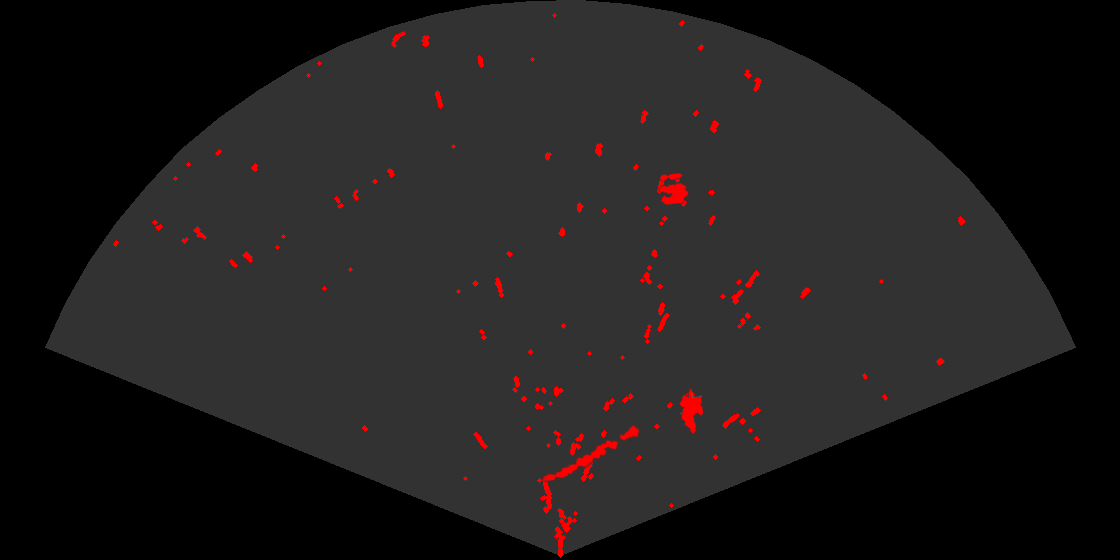AUV: (678, 387, 705, 435)
ball: (657, 172, 690, 206)
chain: (541, 424, 641, 483)
